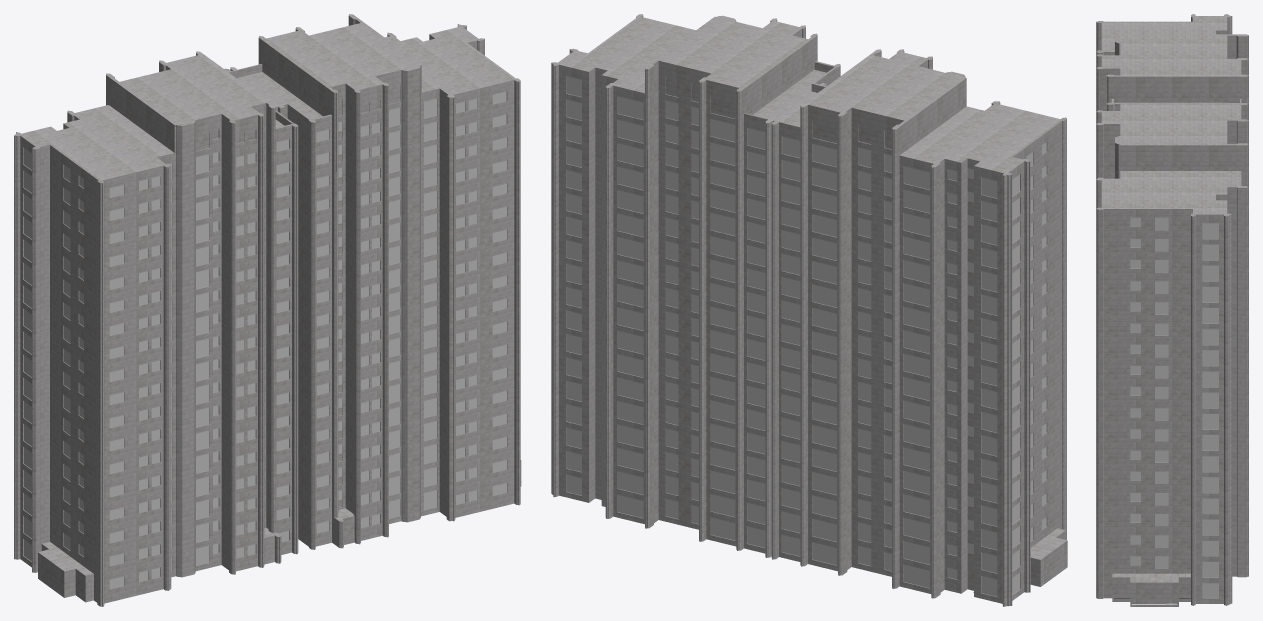
Rendered from builder_9.FBX.
3 views of the same model, side by side, from view 1: azimuth 30°, elevation 25°; view 2: azimuth 150°, elevation 25°; view 3: azimuth 270°, elevation 25° (orthographic). The views are drawn at different scales.
Visible parts, largest first — view 1: builder_9; view 2: builder_9; view 3: builder_9.
Boxes of the visible parts, x1,y1,x2,y2 form: builder_9: [14, 14, 522, 606]; builder_9: [551, 14, 1067, 606]; builder_9: [1096, 14, 1248, 606].
Bounding box in the file's own units: 44450 × 41754 × 13951.
